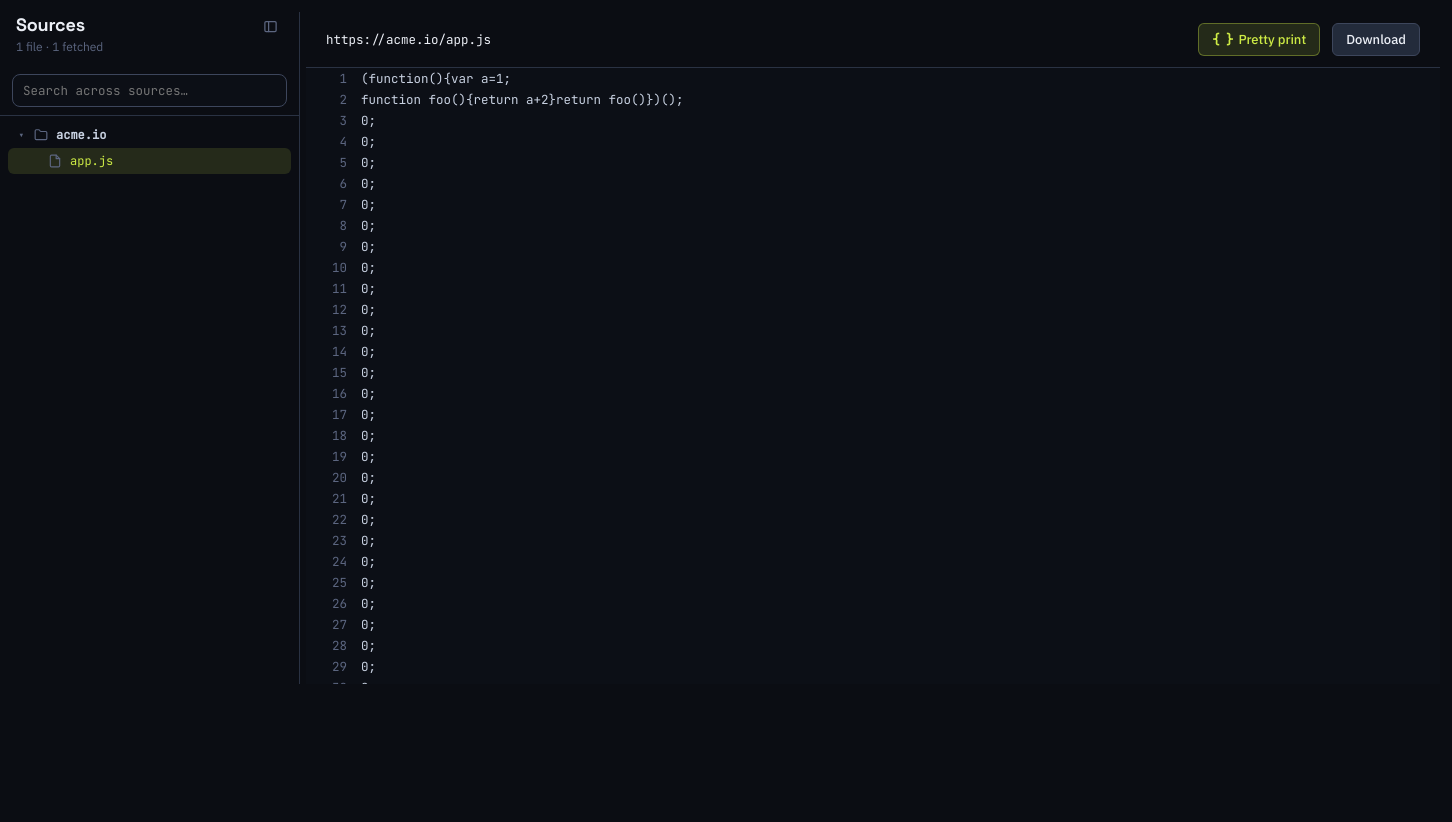
Test: SourcesPage › auto pretty-prints a minified source and toggles back to raw
Click the button "{ } Pretty print" at [1259, 40], box x1=1198 y1=23 x2=1320 y2=56
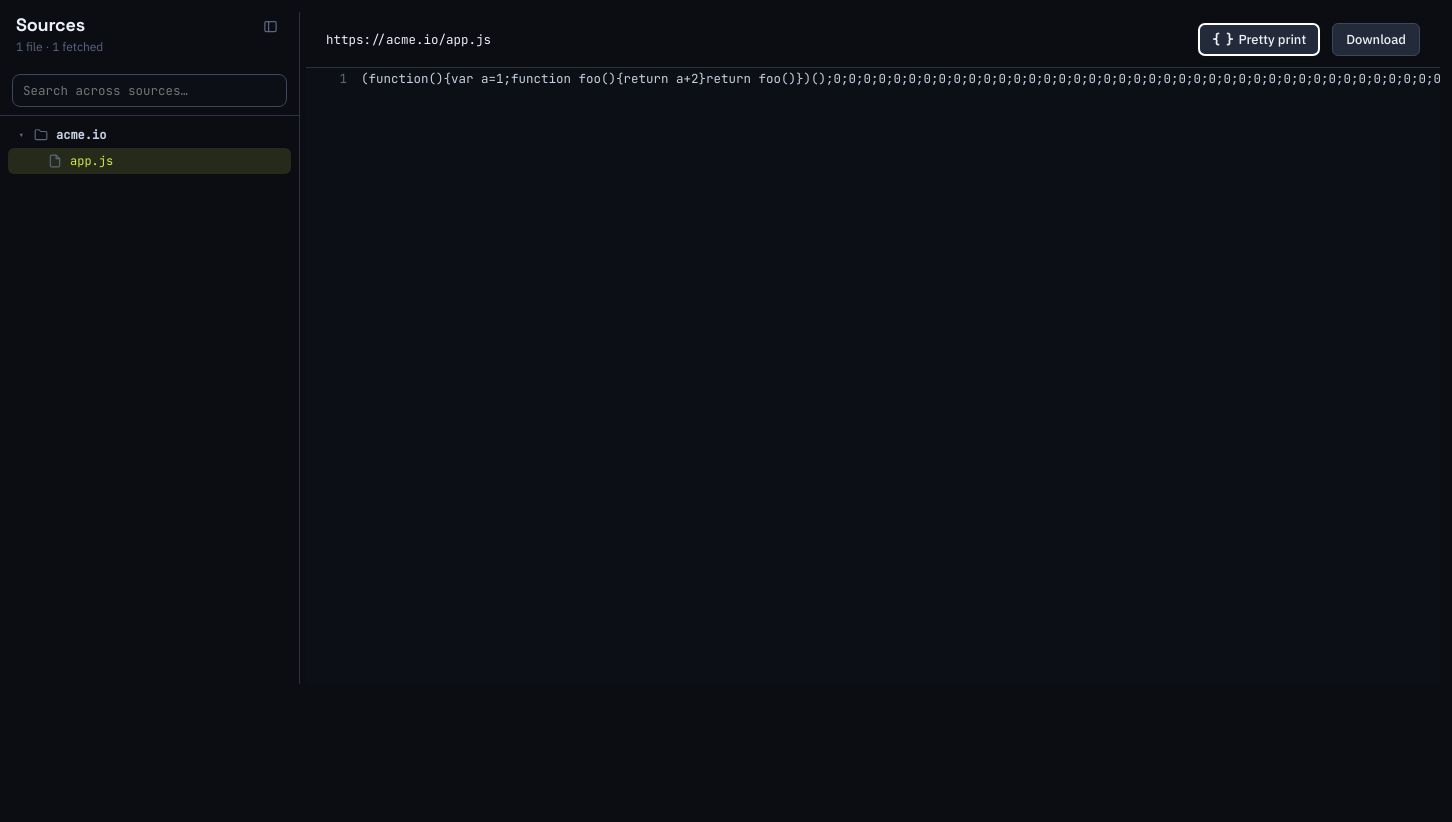
Result: the number of elements with class "sv-line" is 1 at x1=306 y1=68 x2=1440 y2=89
